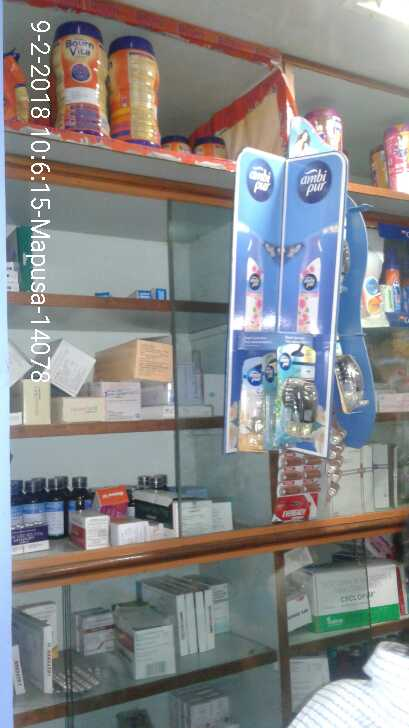home: (273, 347, 319, 440)
